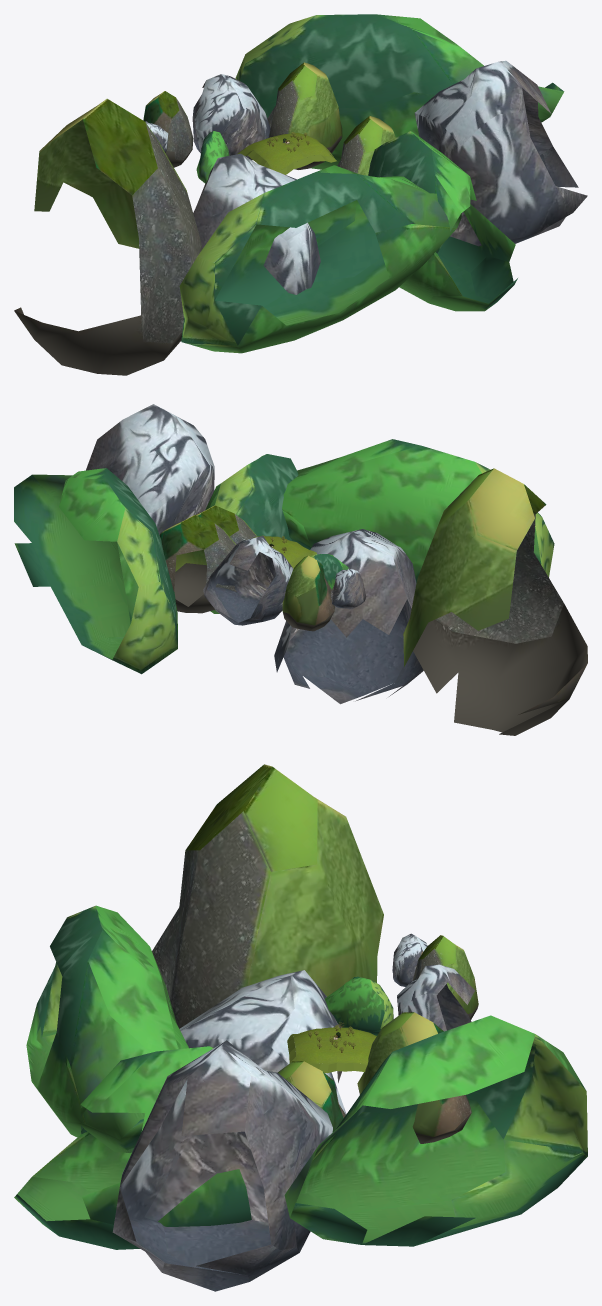
Rendered from self_world_env.glb.
The picture shows the model from 3 angles, top to bottom: view 1: azimuth 30°, elevation 25°; view 2: azimuth 150°, elevation 25°; view 3: azimuth 270°, elevation 25°; orthographic projection. The views are drawn at different scales.
Parts seen in each view (by area): view 1: env, ground; view 2: env, ground; view 3: env, ground.
Boxes of the visible parts, x1,y1,x2,y2 form: env: [14, 14, 587, 375]; ground: [243, 132, 329, 171]; env: [14, 404, 587, 735]; ground: [254, 536, 314, 564]; env: [14, 764, 587, 1291]; ground: [293, 1027, 376, 1064].
Size of the model in its own units: 2325 by 1101 by 1641.
Materials: 18 (16 with a texture image).
